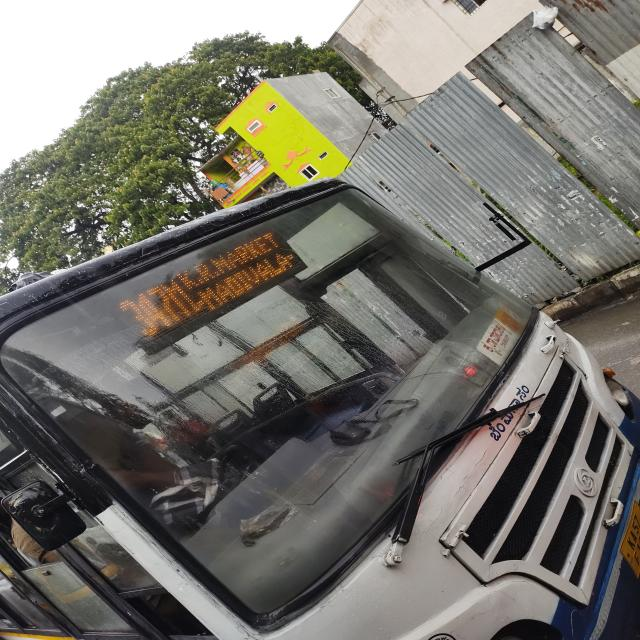bus: (9, 187, 640, 640)
display: (91, 227, 316, 344)
dnumber: (107, 282, 200, 333)
